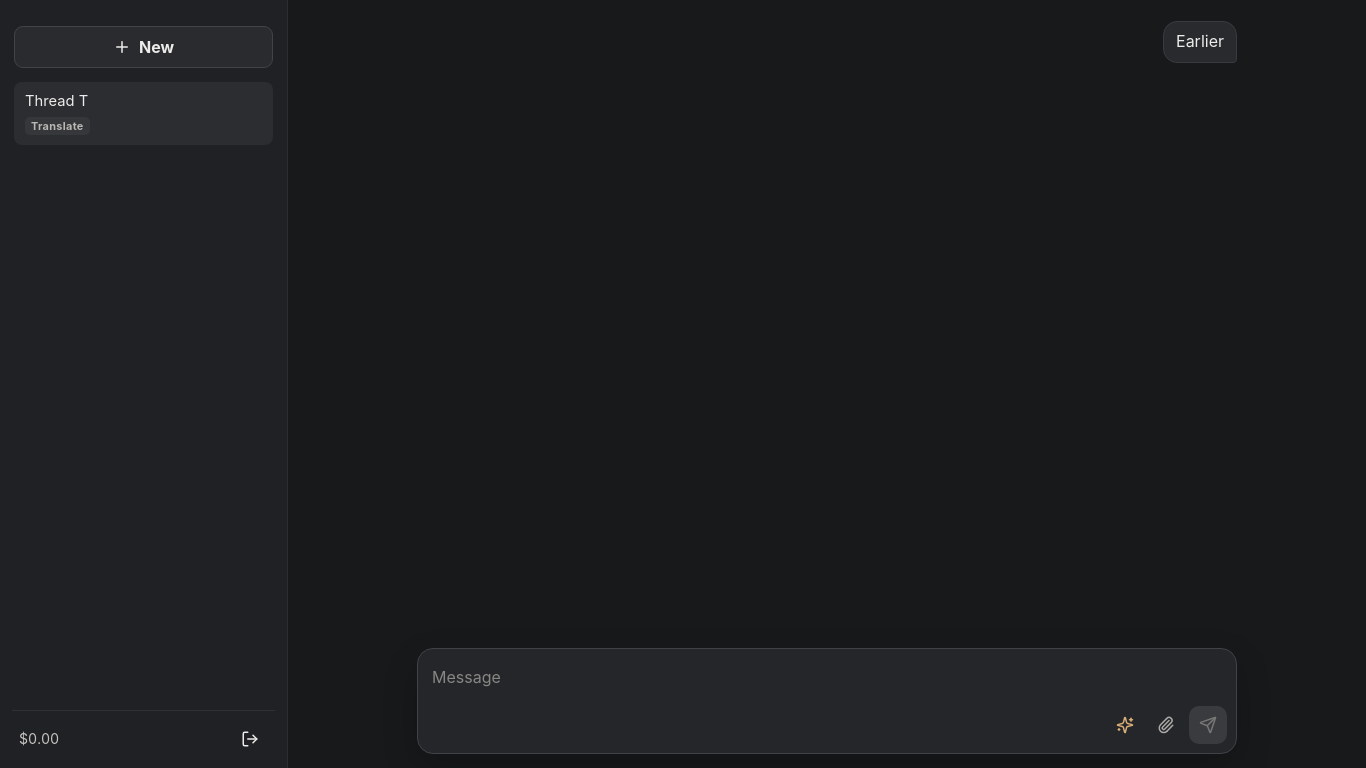
L-1 / F-2, F-9: responses cannot land on the wrong conversation › shows the turn already running when a send is refused because of it
Type "Hello" into the text box labelled "Message" at point(764, 701), box [430,658,1099,744]
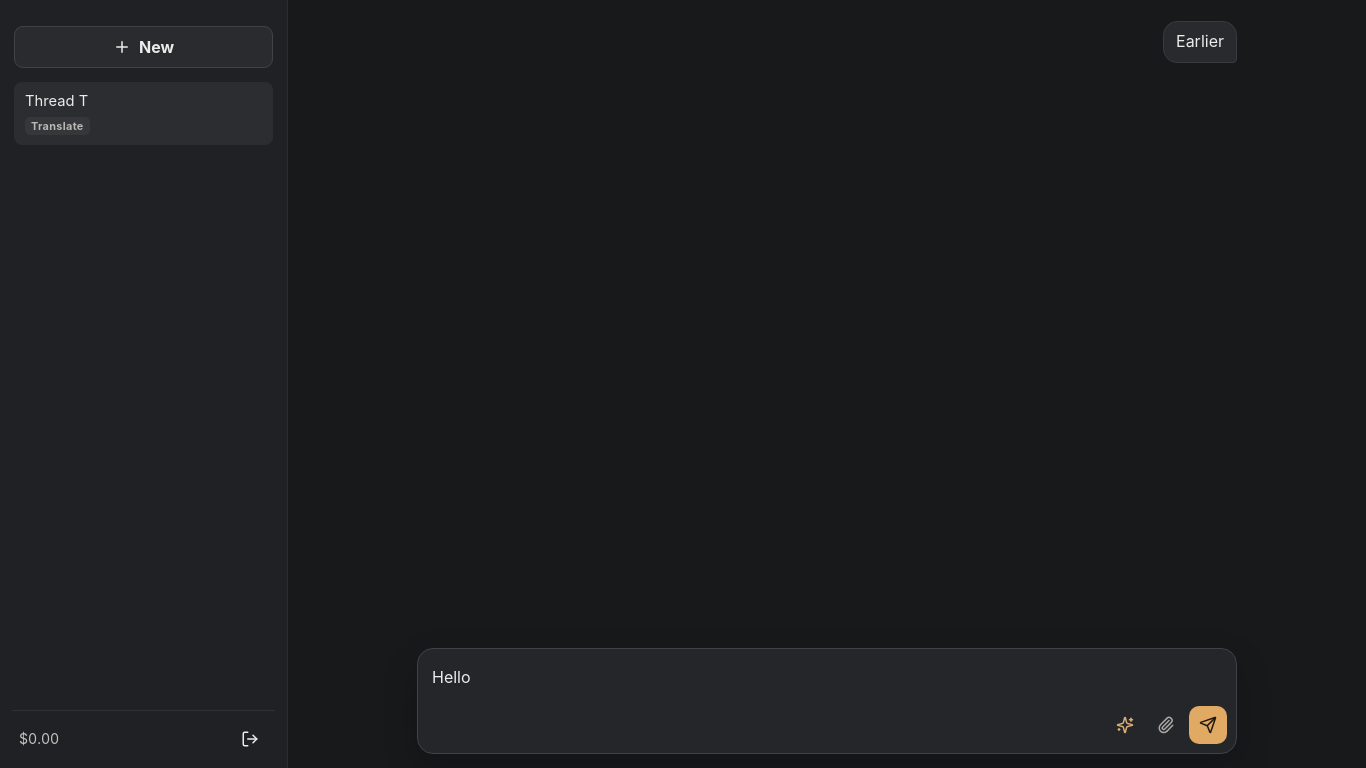
Click the button named "Send message" at point(1208, 725), box [1189,706,1227,744]
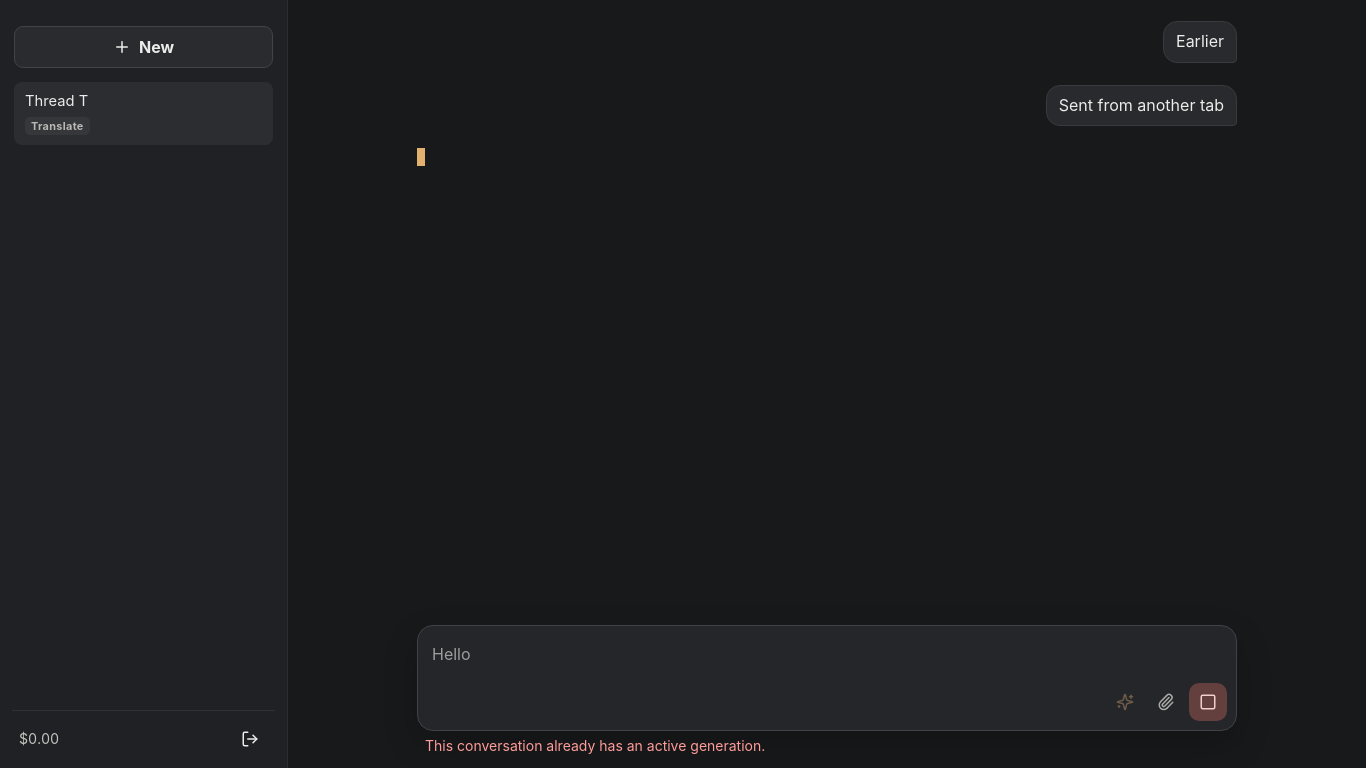
Now the message shows "already has an active generation", box [425,737,765,754]
Now the text "Sent from another tab" is shown, box [1046,85,1237,126]
